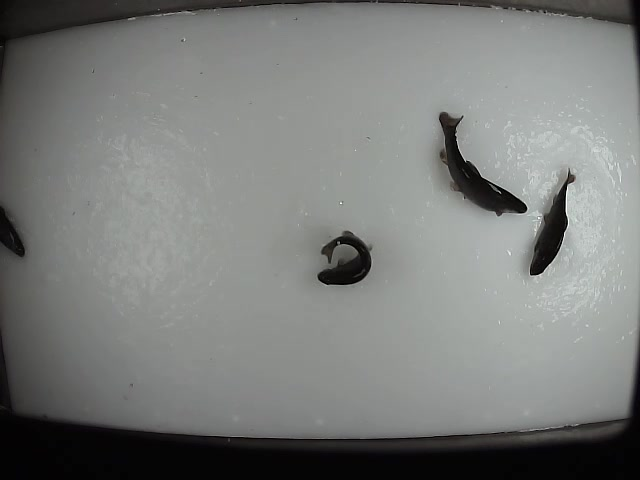fish: (435, 108, 529, 219), (526, 165, 582, 277), (315, 228, 376, 287)
